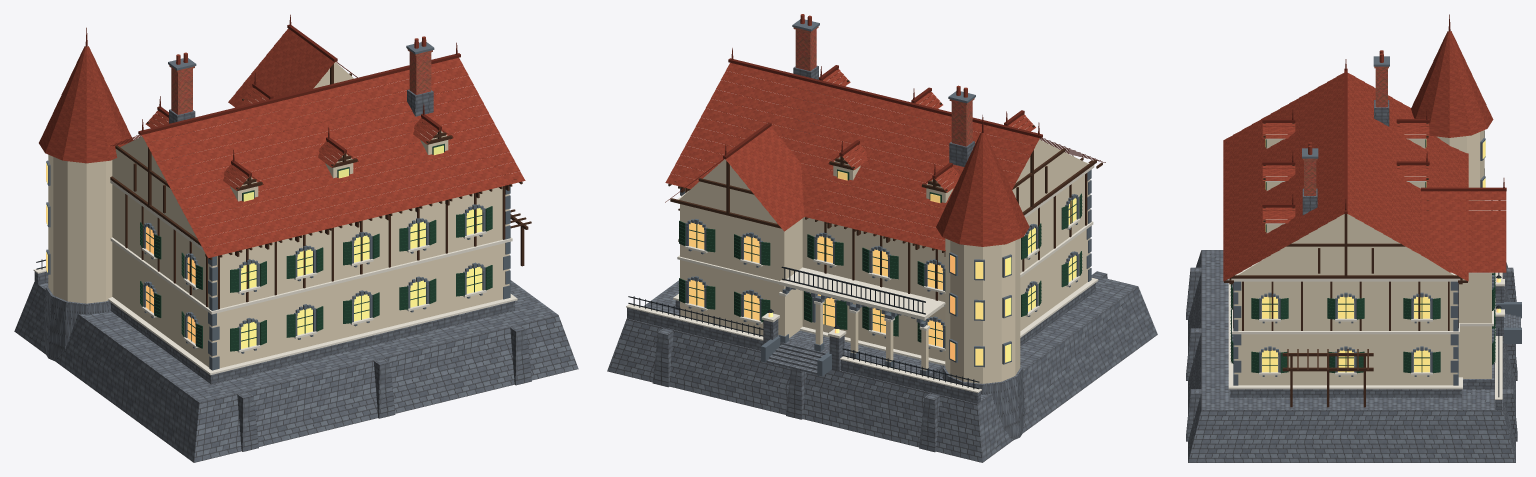
File: fv_cd_07_nha_khach_cong_doan_son_cuoc_1_manor.glb
3 views of the same model, side by side, from view 1: azimuth 30°, elevation 25°; view 2: azimuth 150°, elevation 25°; view 3: azimuth 270°, elevation 25° (orthographic). The views are drawn at different scales.
Visible parts, largest first — view 1: Normandy_Brittany_Layered_Roof, Foundation_Skirt_Neg3p5m, Villa_Stucco_Walls, PineGreen_Louvered_Shutters, Molded_Cornices_And_Sills, Stone_Quoins_And_Arches, Exposed_Timber_Trusses_And_Rafters, Warm_Night_Windows_20h00_Blend, Roof_Ridges_Caps_And_Finials, Brick_Chimney_Stacks; view 2: Foundation_Skirt_Neg3p5m, Normandy_Brittany_Layered_Roof, Villa_Stucco_Walls, Molded_Cornices_And_Sills, Stone_Quoins_And_Arches, PineGreen_Louvered_Shutters, Warm_Night_Windows_20h00_Blend, Exposed_Timber_Trusses_And_Rafters, Roof_Ridges_Caps_And_Finials, Wrought_Iron_Balustrades_And_Gate, Brick_Chimney_Stacks; view 3: Normandy_Brittany_Layered_Roof, Foundation_Skirt_Neg3p5m, Villa_Stucco_Walls, Molded_Cornices_And_Sills, Exposed_Timber_Trusses_And_Rafters, Stone_Quoins_And_Arches, PineGreen_Louvered_Shutters, Warm_Night_Windows_20h00_Blend, Roof_Ridges_Caps_And_Finials, Brick_Chimney_Stacks.
Part boxes in pixels (x1,y1,x2,y2): Normandy_Brittany_Layered_Roof: (39, 28, 525, 258); Foundation_Skirt_Neg3p5m: (14, 89, 578, 462); Villa_Stucco_Walls: (48, 62, 509, 367); PineGreen_Louvered_Shutters: (140, 143, 492, 351); Molded_Cornices_And_Sills: (33, 98, 517, 375); Stone_Quoins_And_Arches: (46, 42, 510, 370); Exposed_Timber_Trusses_And_Rafters: (110, 64, 531, 309); Warm_Night_Windows_20h00_Blend: (46, 145, 482, 348); Roof_Ridges_Caps_And_Finials: (85, 14, 460, 184); Brick_Chimney_Stacks: (169, 49, 432, 114); Foundation_Skirt_Neg3p5m: (607, 65, 1157, 462); Normandy_Brittany_Layered_Roof: (665, 14, 1039, 251); Villa_Stucco_Walls: (679, 97, 1090, 383); Molded_Cornices_And_Sills: (626, 79, 1098, 393); Stone_Quoins_And_Arches: (680, 19, 1091, 376); PineGreen_Louvered_Shutters: (679, 169, 1082, 348); Warm_Night_Windows_20h00_Blend: (689, 171, 1076, 365); Exposed_Timber_Trusses_And_Rafters: (668, 69, 1102, 300); Roof_Ridges_Caps_And_Finials: (665, 48, 1105, 202); Wrought_Iron_Balustrades_And_Gate: (628, 266, 979, 389); Brick_Chimney_Stacks: (793, 26, 974, 146); Normandy_Brittany_Layered_Roof: (1223, 31, 1506, 281); Foundation_Skirt_Neg3p5m: (1186, 100, 1520, 462); Villa_Stucco_Walls: (1234, 130, 1491, 385); Molded_Cornices_And_Sills: (1228, 134, 1504, 399); Exposed_Timber_Trusses_And_Rafters: (1224, 123, 1500, 407); Stone_Quoins_And_Arches: (1231, 56, 1521, 385); PineGreen_Louvered_Shutters: (1230, 139, 1495, 373); Warm_Night_Windows_20h00_Blend: (1262, 139, 1500, 372); Roof_Ridges_Caps_And_Finials: (1262, 14, 1506, 213); Brick_Chimney_Stacks: (1303, 66, 1388, 195).
Size of the model in its own units: 28.11 by 21.73 by 22.53.
Materials: 12 (3 with a texture image).
